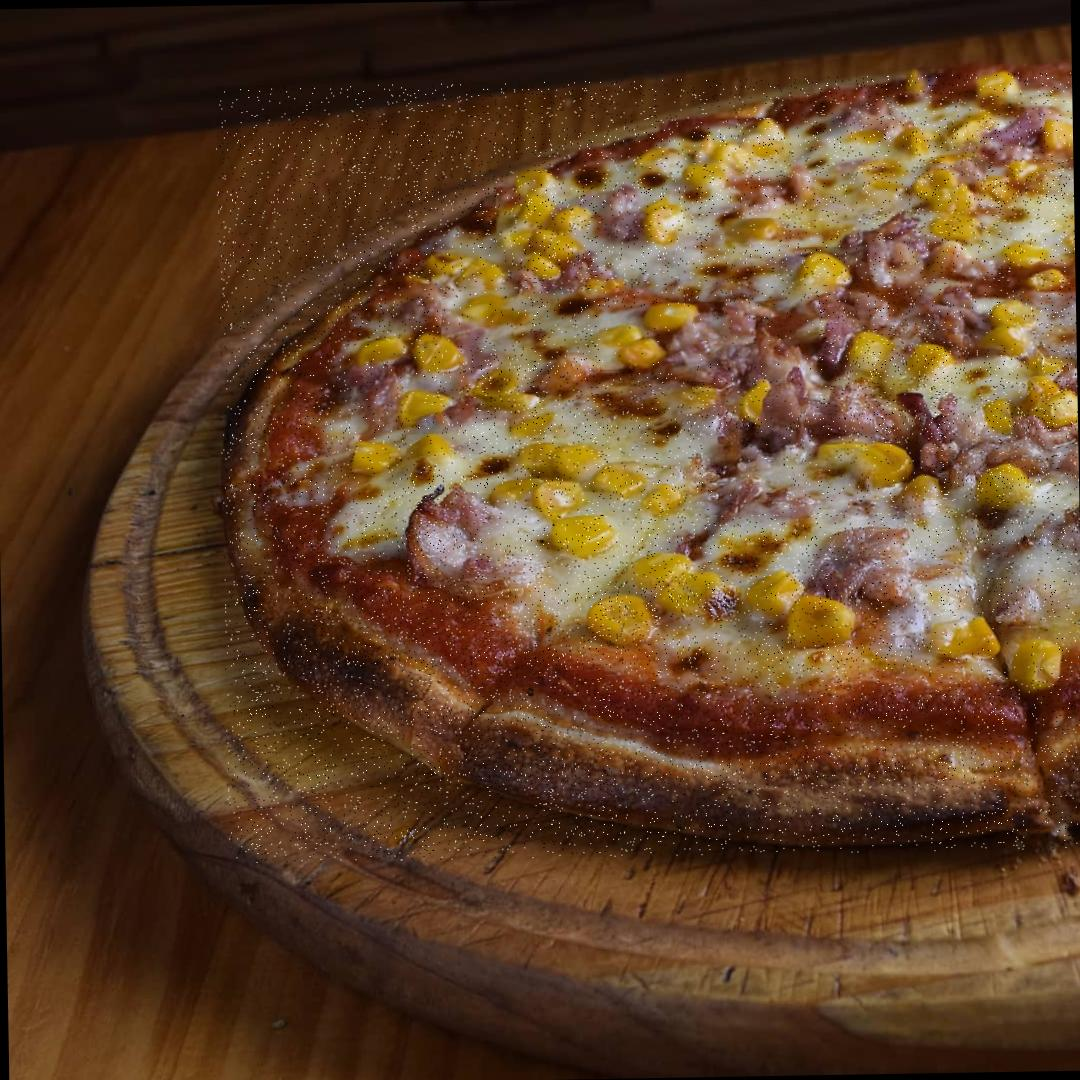Corn: (509, 434, 653, 547), (350, 340, 463, 424), (932, 616, 1058, 682), (497, 188, 581, 286), (736, 575, 860, 639), (668, 118, 785, 176), (599, 306, 691, 373), (912, 155, 980, 238), (975, 376, 1074, 433), (680, 377, 772, 430), (844, 329, 944, 376), (975, 278, 1037, 353), (806, 444, 907, 488), (986, 159, 1066, 214), (586, 592, 658, 644), (964, 468, 1028, 526), (630, 551, 702, 602), (476, 369, 540, 415), (432, 250, 505, 288), (795, 248, 847, 290), (349, 432, 396, 476), (648, 484, 692, 527), (639, 205, 684, 239), (980, 72, 1030, 102), (725, 219, 780, 246), (406, 434, 451, 464), (948, 121, 999, 146), (1046, 120, 1070, 158), (928, 500, 958, 503)
Ham: (838, 221, 982, 344), (669, 301, 821, 414), (405, 494, 516, 618), (702, 408, 786, 516), (840, 378, 956, 454), (813, 524, 915, 601), (441, 298, 516, 344)
Pizza: (215, 72, 1080, 863)
